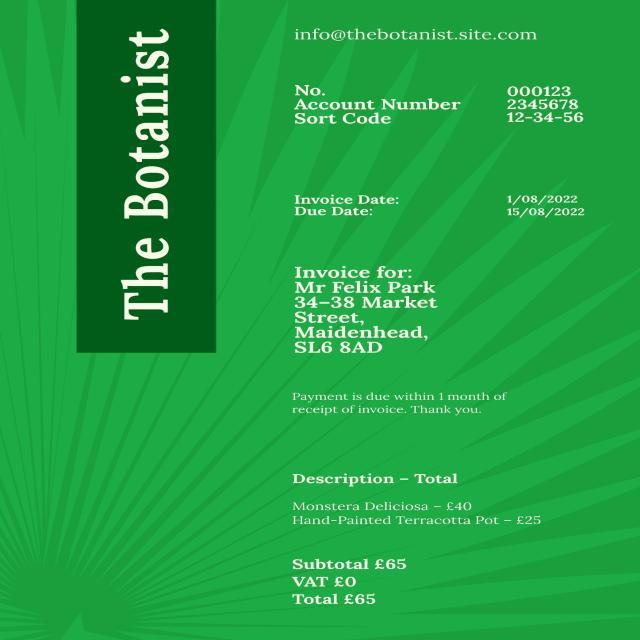ROI: (95, 16, 197, 332), (282, 73, 598, 137), (288, 461, 558, 532), (287, 261, 449, 360), (281, 189, 609, 224), (283, 548, 418, 614), (287, 387, 533, 422), (284, 18, 550, 50)
